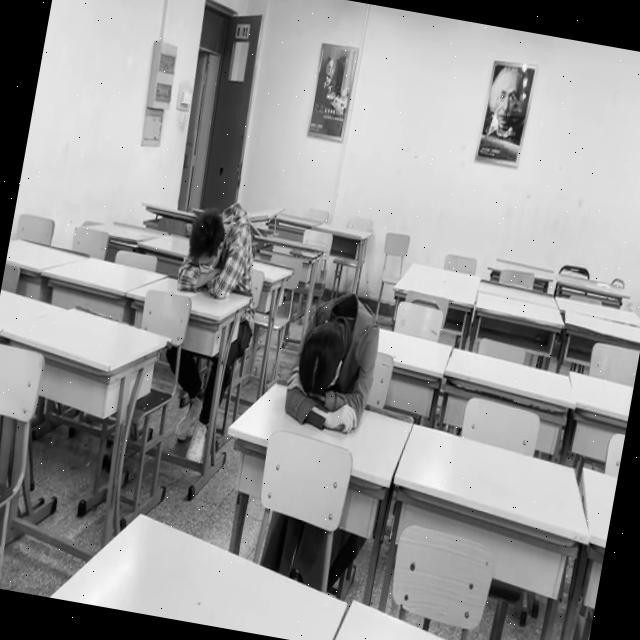sleep: (281, 292, 386, 433), (175, 197, 264, 302)
